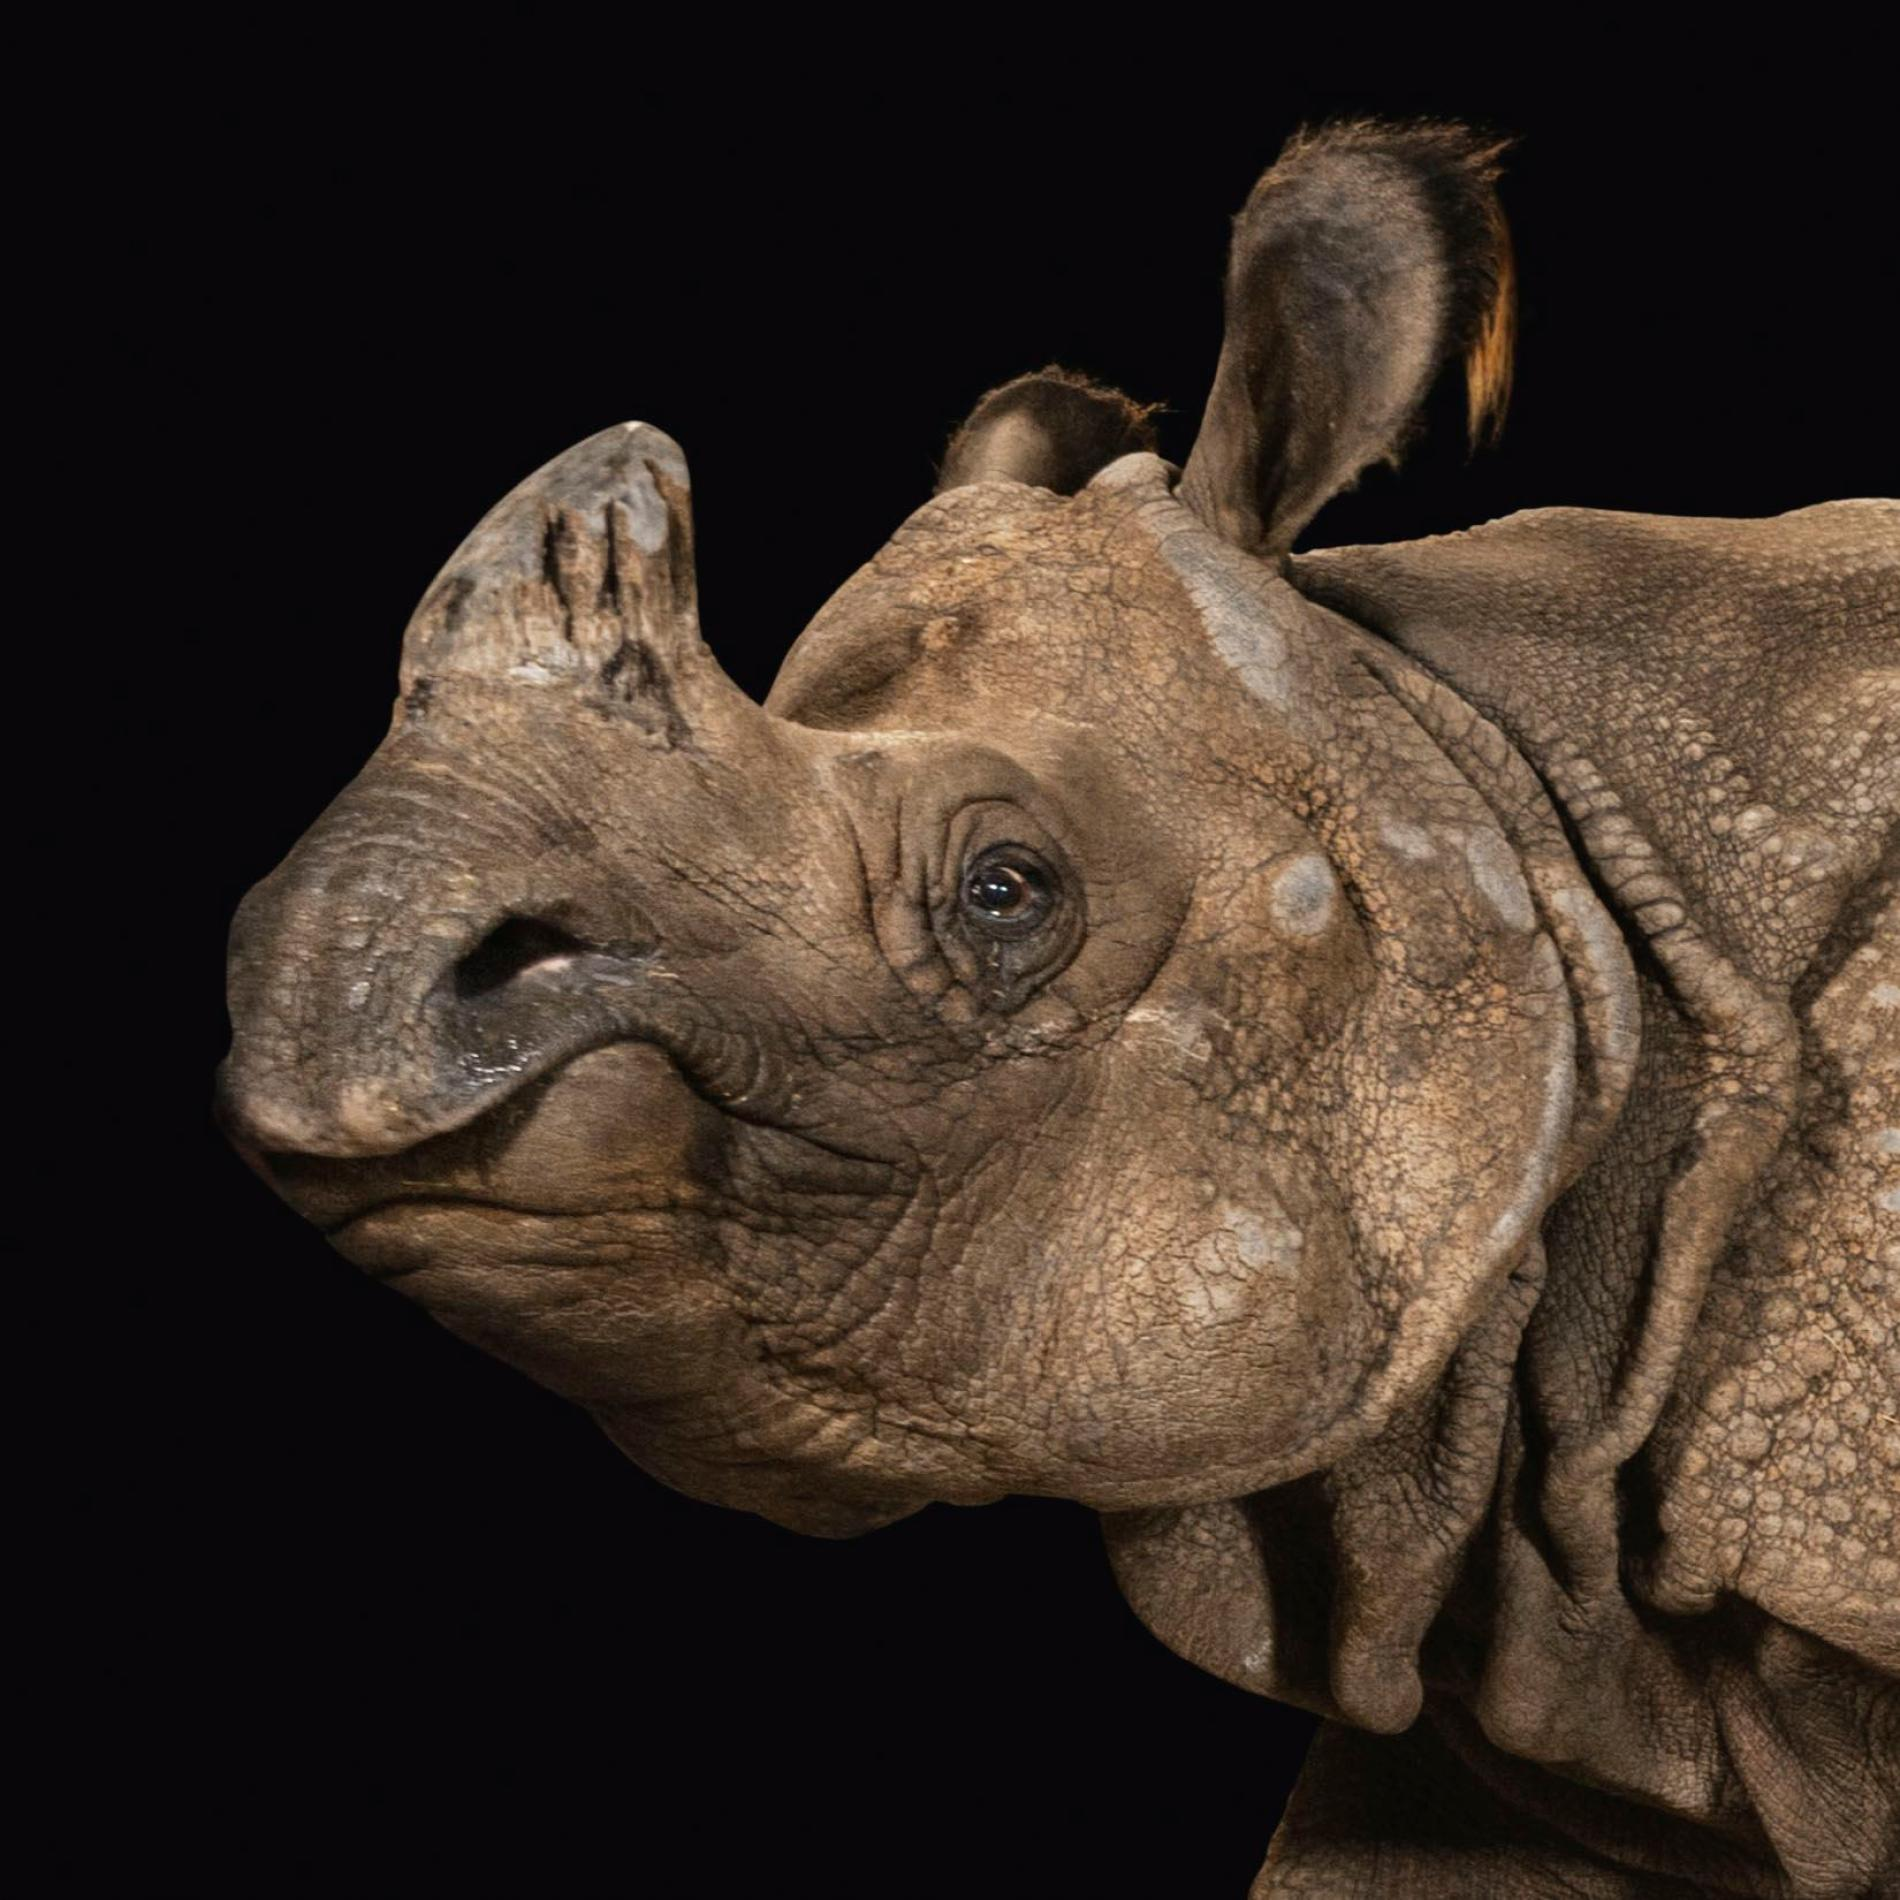rhinoceros: (212, 106, 1900, 1897)
